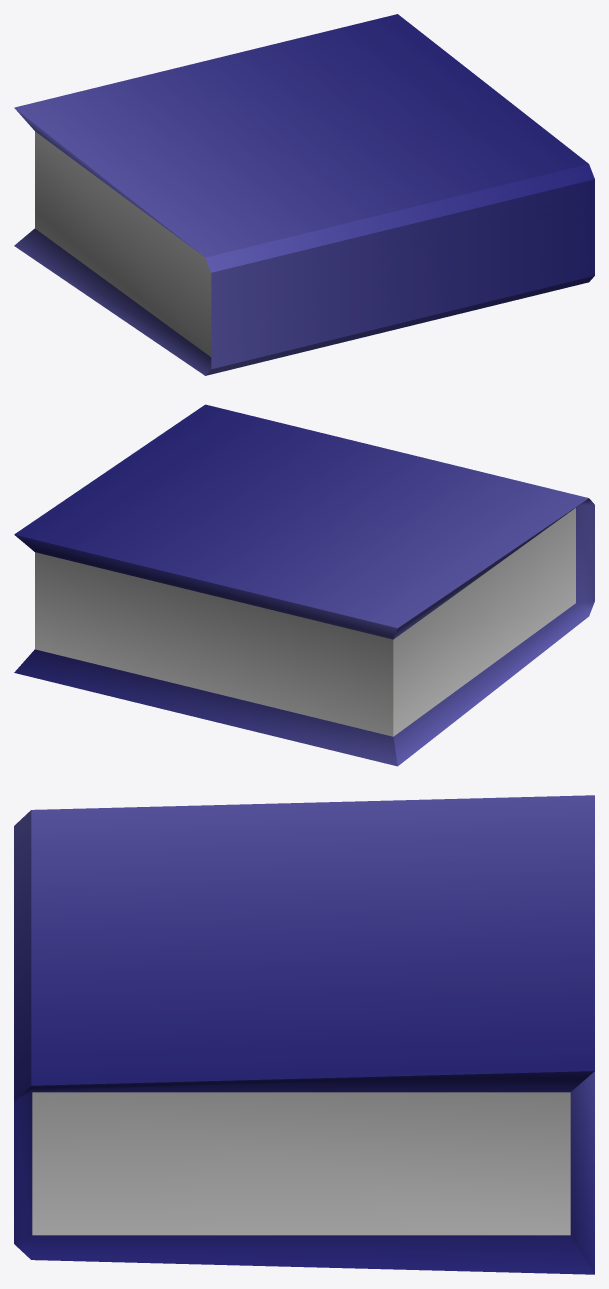
File: libro.fbx
3 views of the same model, one above another, from view 1: azimuth 30°, elevation 25°; view 2: azimuth 150°, elevation 25°; view 3: azimuth 270°, elevation 25° (orthographic). The views are drawn at different scales.
Visible parts, largest first — view 1: SM_libro24; view 2: SM_libro24; view 3: SM_libro24.
Boxes of the visible parts, x1,y1,x2,y2 form: SM_libro24: (14,14,594,375); SM_libro24: (14,404,594,766); SM_libro24: (14,795,594,1274).
Size of the model in its own units: 61.37 by 21.12 by 54.62.
